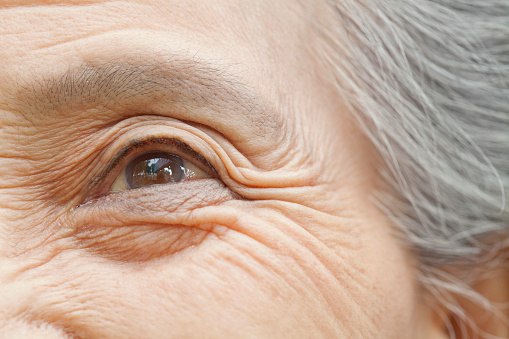Kerutan: (217, 94, 400, 339), (48, 205, 289, 275), (47, 99, 114, 202), (105, 110, 237, 153)
